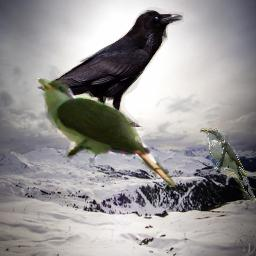Crow: (36, 6, 184, 127)
Cuckoo: (34, 78, 178, 188), (200, 128, 256, 202)
